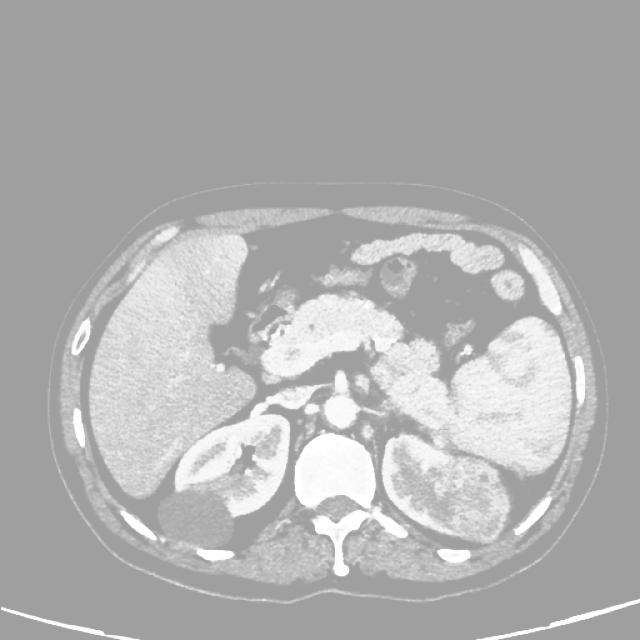TUMOR: (177, 209, 569, 515)
